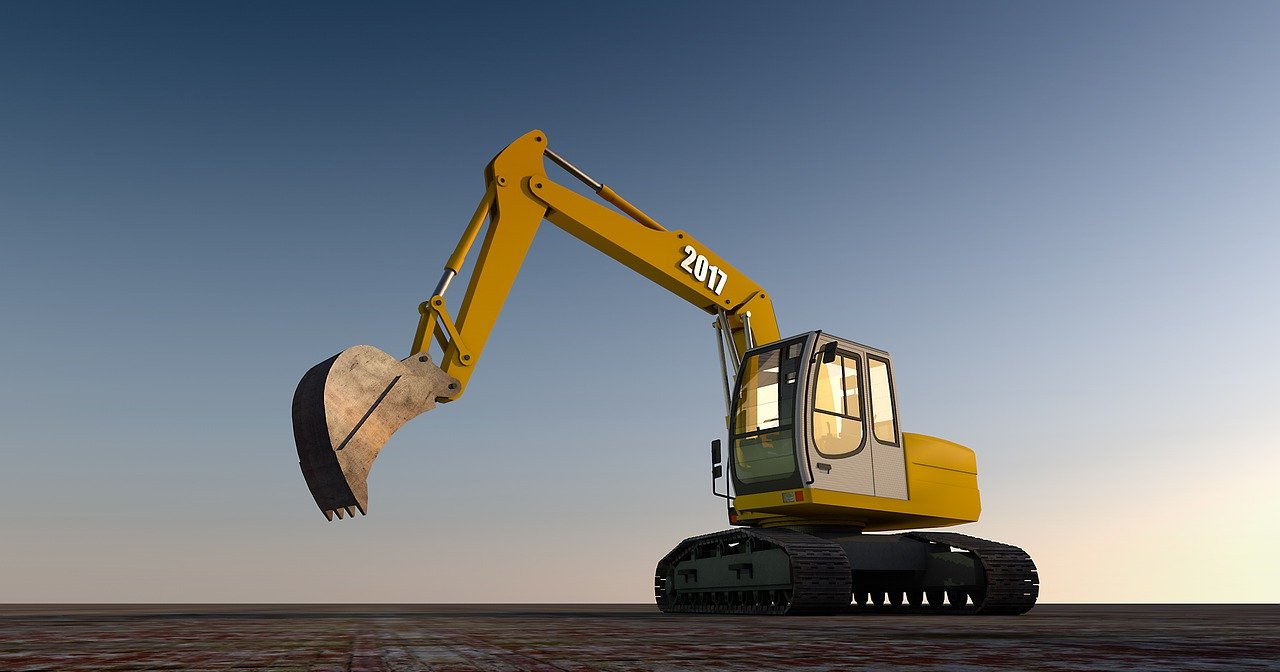excavator: (300, 123, 1044, 617)
